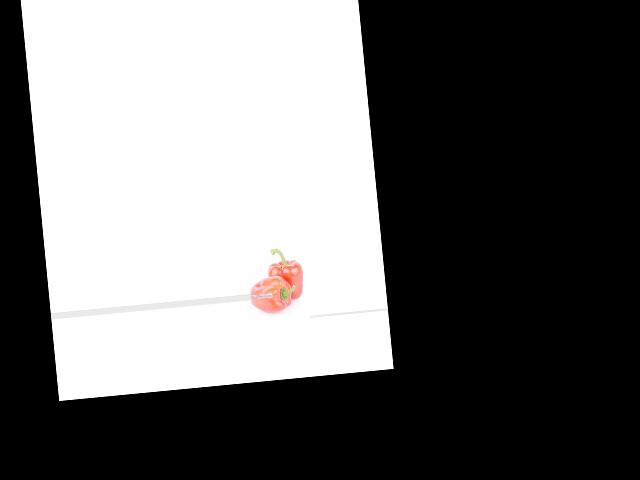bell_pepper: (243, 271, 296, 315)
